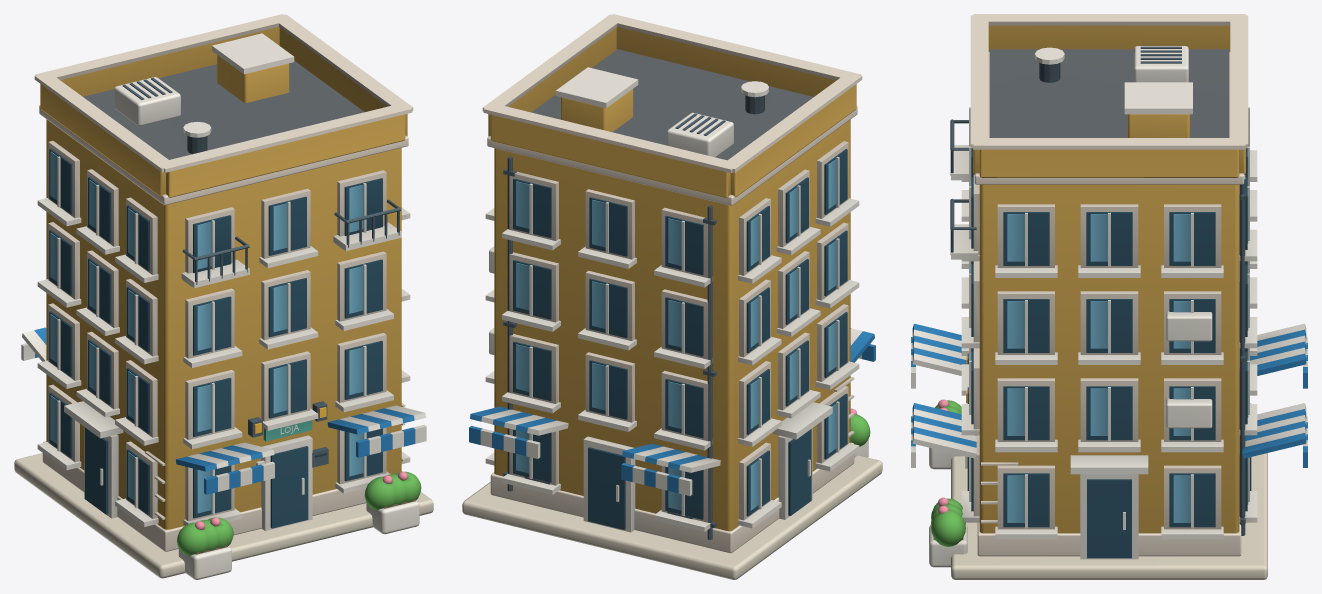
The model's file is townhouse-cream.glb.
The picture shows the model from 3 angles, left to right: view 1: azimuth 30°, elevation 25°; view 2: azimuth 150°, elevation 25°; view 3: azimuth 270°, elevation 25°; orthographic projection. The views are drawn at different scales.
Parts seen in each view (by area): view 1: stucco, foundation, mullion, blue glazing, recessed roof, sky reflection, paving, striped canopy, plant, vent grille, shop name fascia; view 2: stucco, foundation, mullion, blue glazing, paving, sky reflection, recessed roof, vent grille, striped canopy; view 3: stucco, foundation, mullion, blue glazing, recessed roof, paving, sky reflection, striped canopy, vent grille, plant.
Boxes of the visible parts, x1,y1,x2,y2 form: stucco: (40,27,407,529); foundation: (34,14,413,551); mullion: (21,33,426,579); blue glazing: (49,148,382,528); recessed roof: (83,61,364,159); sky reflection: (50,151,363,513); paving: (14,453,433,578); striped canopy: (34,327,415,494); plant: (177,471,421,555); vent grille: (122,77,401,467); shop name fascia: (263,420,312,441); stucco: (488,27,856,531); foundation: (482,14,862,553); mullion: (480,67,868,532); blue glazing: (513,149,847,529); paving: (462,455,882,579); sky reflection: (516,159,836,510); recessed roof: (531,49,813,160); vent grille: (503,95,764,539); striped canopy: (469,328,875,493); stucco: (973,25,1245,533); foundation: (970,14,1248,556); mullion: (911,46,1307,567); blue glazing: (967,148,1251,558); recessed roof: (989,49,1229,137); paving: (951,453,1267,579); sky reflection: (970,149,1248,522); striped canopy: (911,323,1307,467); vent grille: (950,46,1245,535); plant: (931,400,965,546).
Size of the model in its own units: 2.81 by 3.91 by 3.18.
